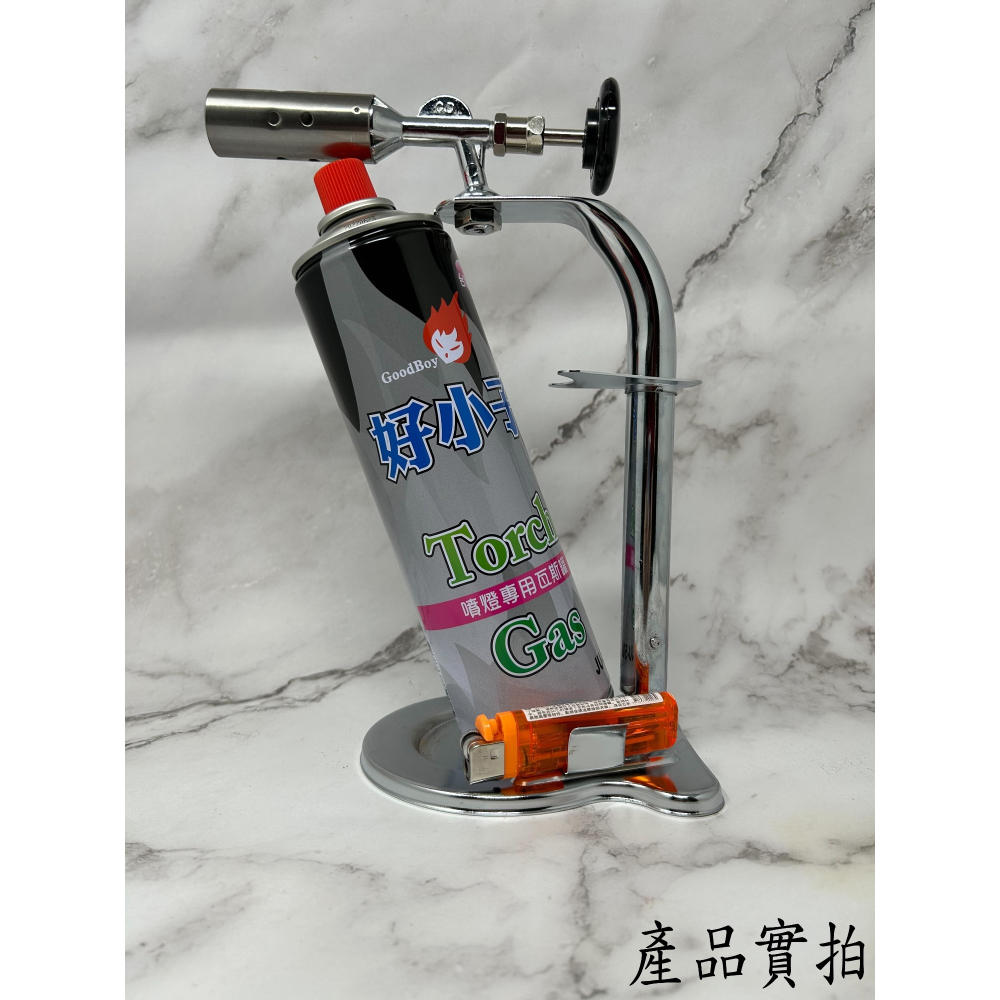gastorch: (184, 65, 739, 817)
